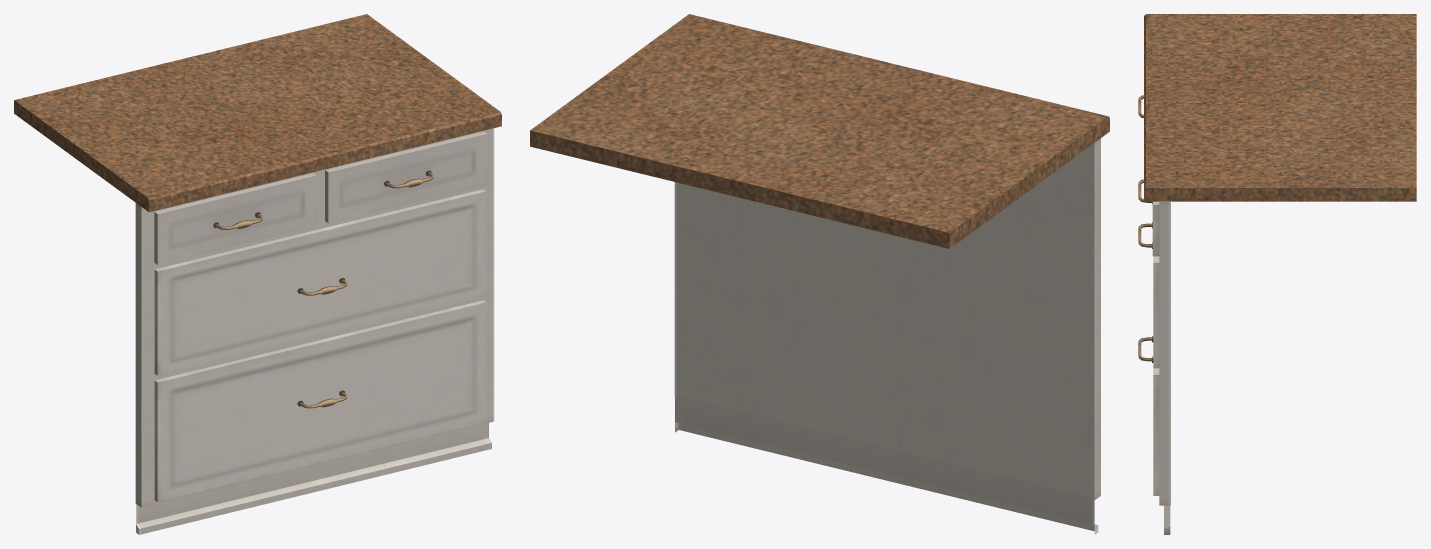
File: KitCabinet_Lo_1x_B.FBX
The picture shows the model from 3 angles, left to right: view 1: azimuth 30°, elevation 25°; view 2: azimuth 150°, elevation 25°; view 3: azimuth 270°, elevation 25°; orthographic projection. The views are drawn at different scales.
Parts seen in each view (by area): view 1: KitCabinet_Lo_1x_B; view 2: KitCabinet_Lo_1x_B; view 3: KitCabinet_Lo_1x_B.
Boxes of the visible parts, x1,y1,x2,y2 form: KitCabinet_Lo_1x_B: (14,14,501,534); KitCabinet_Lo_1x_B: (530,14,1109,534); KitCabinet_Lo_1x_B: (1138,14,1416,534).
Size of the model in its own units: 100 by 92.99 by 67.59.
